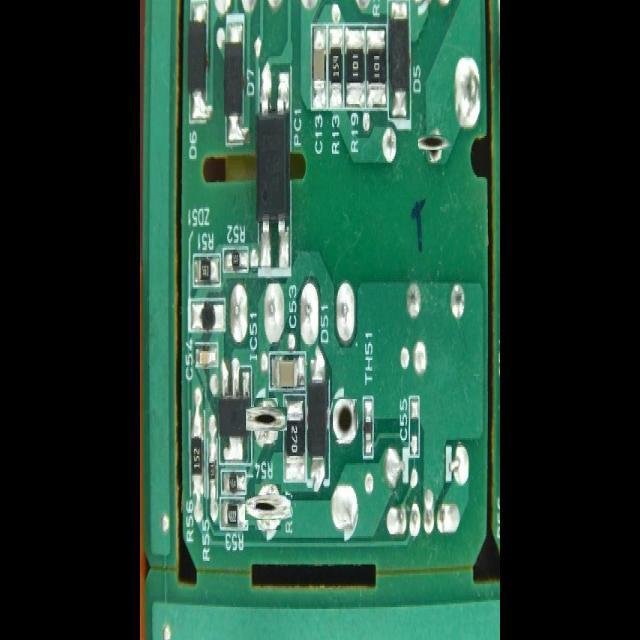damged: (250, 489, 286, 525), (250, 402, 282, 436), (333, 399, 357, 442), (422, 131, 447, 155)
